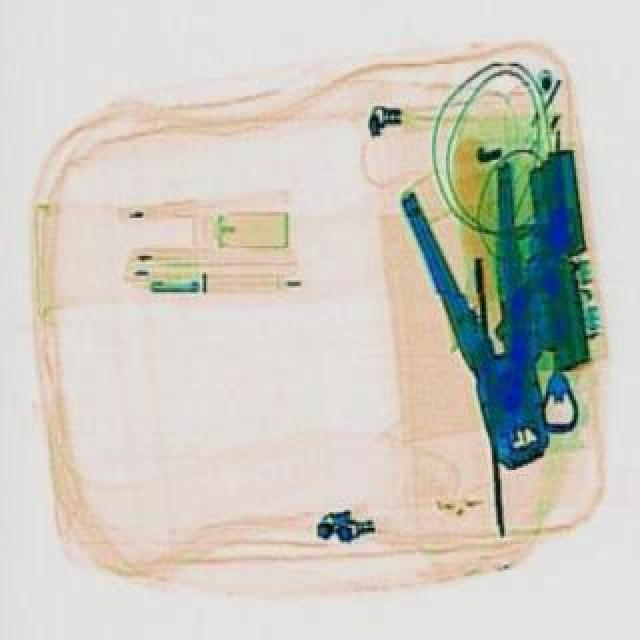wrench: (396, 156, 578, 476)
